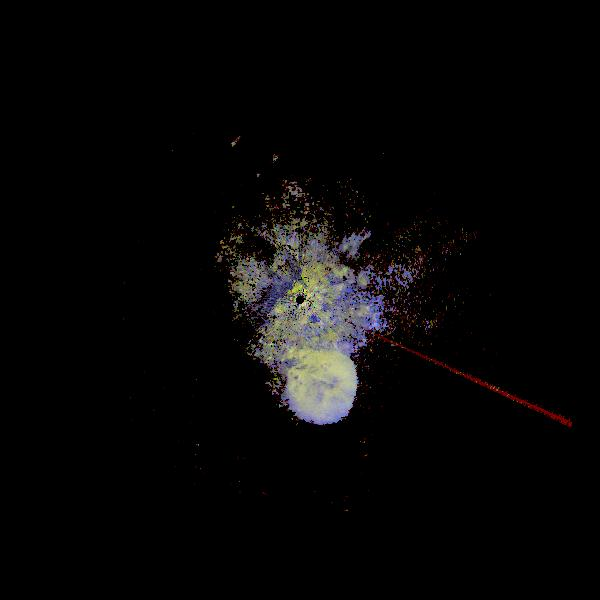roost: (258, 326, 378, 446), (240, 165, 324, 249)
